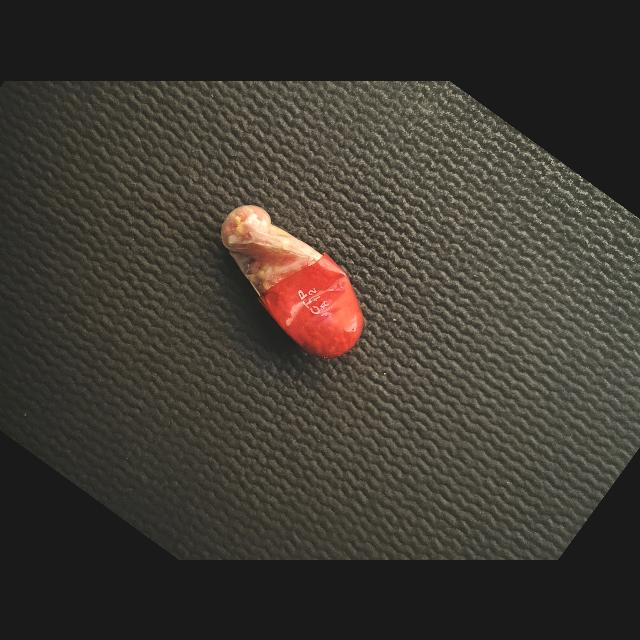Defective Capsule: (221, 204, 363, 357)
